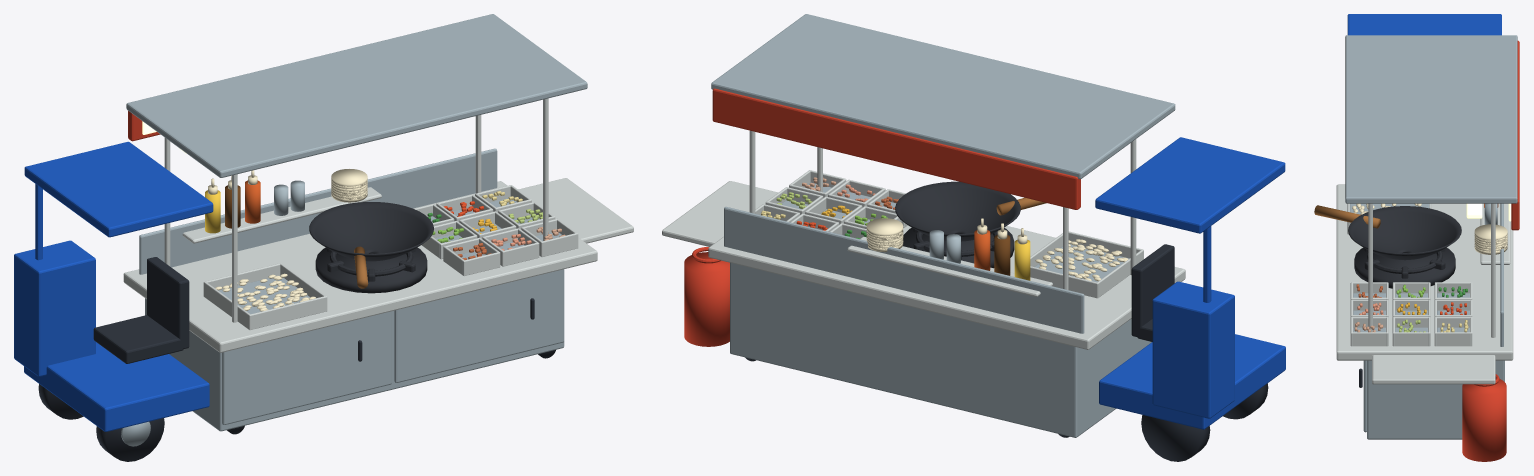
Rendered from street-station.glb.
The picture shows the model from 3 angles, left to right: view 1: azimuth 30°, elevation 25°; view 2: azimuth 150°, elevation 25°; view 3: azimuth 270°, elevation 25°; orthographic projection. The views are drawn at different scales.
Visible parts, largest first — view 1: Canopy roof, Worktop, Sliding door.001, Sliding door, Cabin roof, Cabin nose, Blue chassis, Splash guard, Wok, Cabinet, Serving extension, Seat back (+15 smaller); view 2: Canopy roof, Cabinet, Splash guard, Red sign band, Cabin roof, Cabin nose, Worktop, Blue chassis, Wok, Gas tank, Serving extension, Seat back (+12 smaller); view 3: Canopy roof, Worktop, Cabinet, Wok, Serving extension, Gas tank, Cabin roof, Stove, Red sign band, Canopy post, Condiment shelf, Canopy post.003 (+19 smaller).
Part boxes in pixels (left/top/right/bottom): Canopy roof: left=126, top=14, right=587, bottom=177; Worktop: left=123, top=181, right=597, bottom=352; Sliding door.001: left=394, top=269, right=564, bottom=382; Sliding door: left=222, top=311, right=391, bottom=425; Cabin roof: left=24, top=141, right=213, bottom=237; Cabin nose: left=14, top=240, right=95, bottom=376; Blue chassis: left=24, top=342, right=209, bottom=431; Splash guard: left=139, top=148, right=497, bottom=274; Wok: left=309, top=202, right=433, bottom=261; Cabinet: left=145, top=298, right=564, bottom=431; Serving extension: left=518, top=178, right=633, bottom=243; Seat back: left=147, top=257, right=189, bottom=349; Canopy roof: left=711, top=14, right=1175, bottom=179; Cabinet: left=730, top=262, right=1151, bottom=437; Splash guard: left=724, top=206, right=1084, bottom=333; Red sign band: left=712, top=88, right=1080, bottom=209; Cabin roof: left=1095, top=137, right=1285, bottom=233; Cabin nose: left=1152, top=281, right=1234, bottom=418; Worktop: left=708, top=225, right=1185, bottom=349; Blue chassis: left=1099, top=334, right=1285, bottom=429; Wok: left=895, top=181, right=1020, bottom=241; Gas tank: left=684, top=252, right=729, bottom=346; Serving extension: left=662, top=181, right=778, bottom=246; Seat back: left=1131, top=244, right=1174, bottom=337; Canopy roof: left=1345, top=35, right=1517, bottom=203; Worktop: left=1336, top=184, right=1513, bottom=360; Cabinet: left=1367, top=360, right=1504, bottom=439; Wok: left=1348, top=206, right=1461, bottom=260; Serving extension: left=1372, top=355, right=1495, bottom=384; Gas tank: left=1462, top=379, right=1506, bottom=461; Cabin roof: left=1347, top=14, right=1501, bottom=35; Stove: left=1354, top=247, right=1455, bottom=288; Red sign band: left=1511, top=40, right=1519, bottom=230; Canopy post: left=1491, top=203, right=1495, bottom=337; Condiment shelf: left=1480, top=203, right=1510, bottom=264; Canopy post.003: left=1368, top=203, right=1372, bottom=332.
Size of the model in its own units: 5.22 by 2.54 by 1.86.
